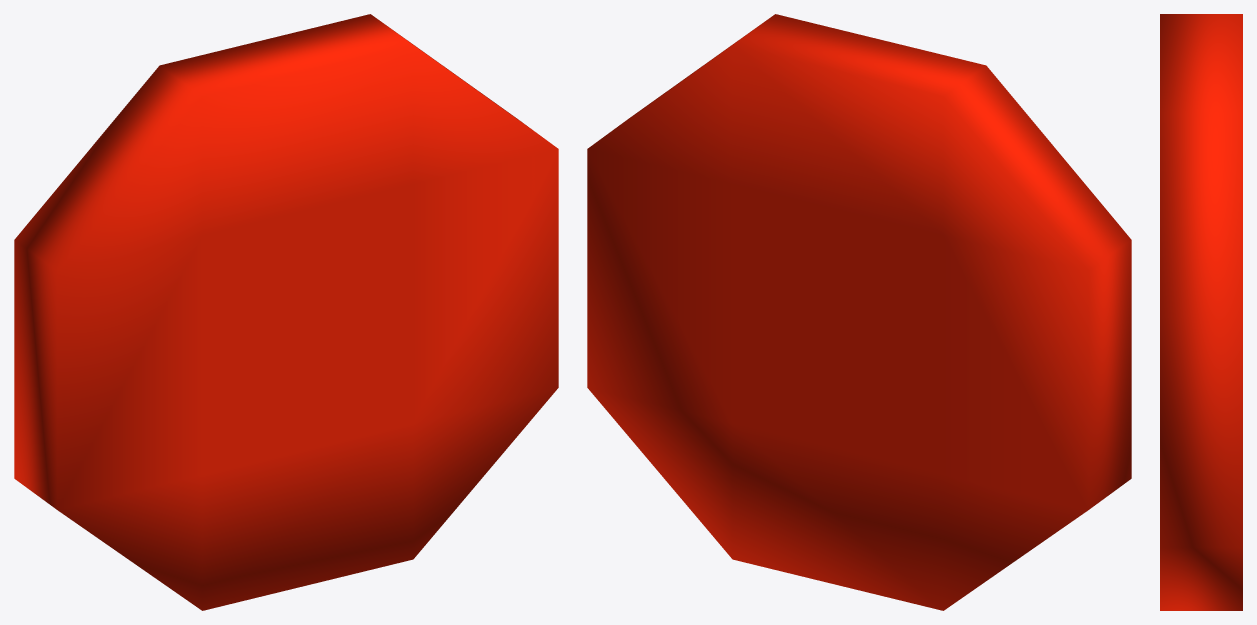
Rendered from octagon.obj.
3 views of the same model, side by side, from view 1: azimuth 30°, elevation 25°; view 2: azimuth 150°, elevation 25°; view 3: azimuth 270°, elevation 25° (orthographic). The views are drawn at different scales.
Parts seen in each view (by area): view 1: Octagon; view 2: Octagon; view 3: Octagon.
Part boxes in pixels (bbox=[...]): Octagon: bbox=[14, 14, 558, 610]; Octagon: bbox=[587, 14, 1131, 610]; Octagon: bbox=[1160, 14, 1242, 610].
Bounding box in the file's own units: 2.45 × 2.41 × 0.3636.
